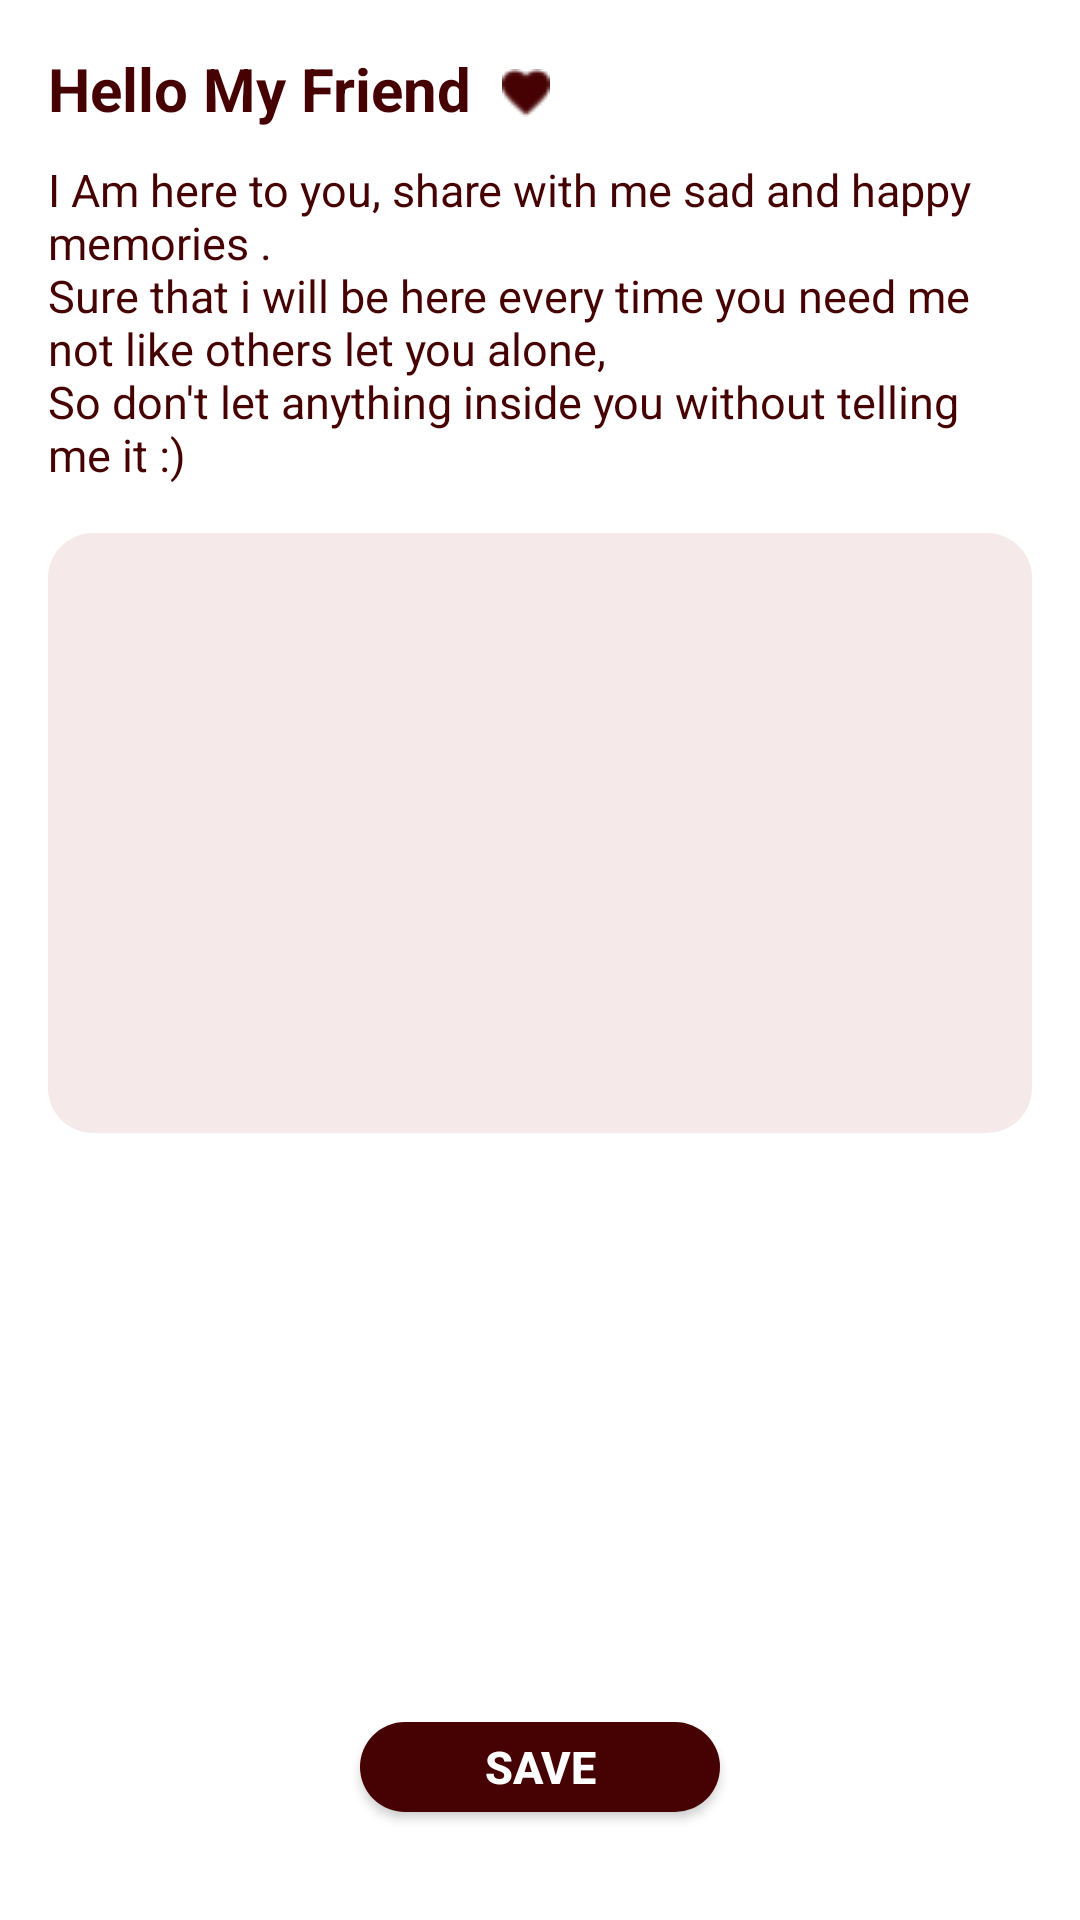

Named icons in this screenshot (1080 × 1920) and their centers, (x=x, y=y):
heart: (x=526, y=92)
